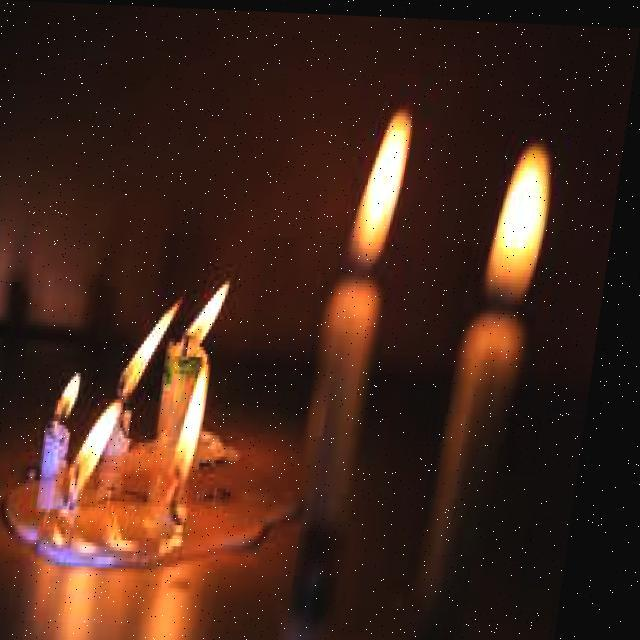Fire: (333, 96, 438, 282), (480, 130, 564, 304), (116, 285, 194, 406), (72, 400, 138, 492), (182, 266, 248, 346), (40, 363, 102, 421)
